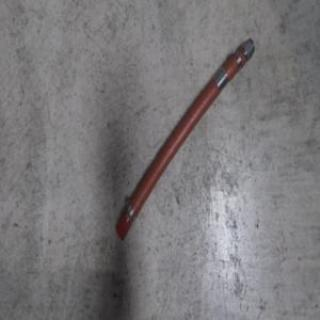Hosetrack_idkeyframe: (112, 32, 255, 241)
